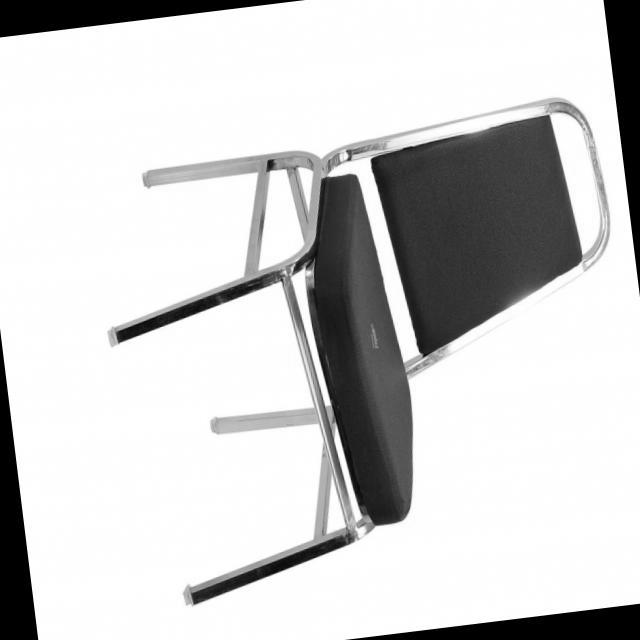chair: (78, 75, 640, 627)
